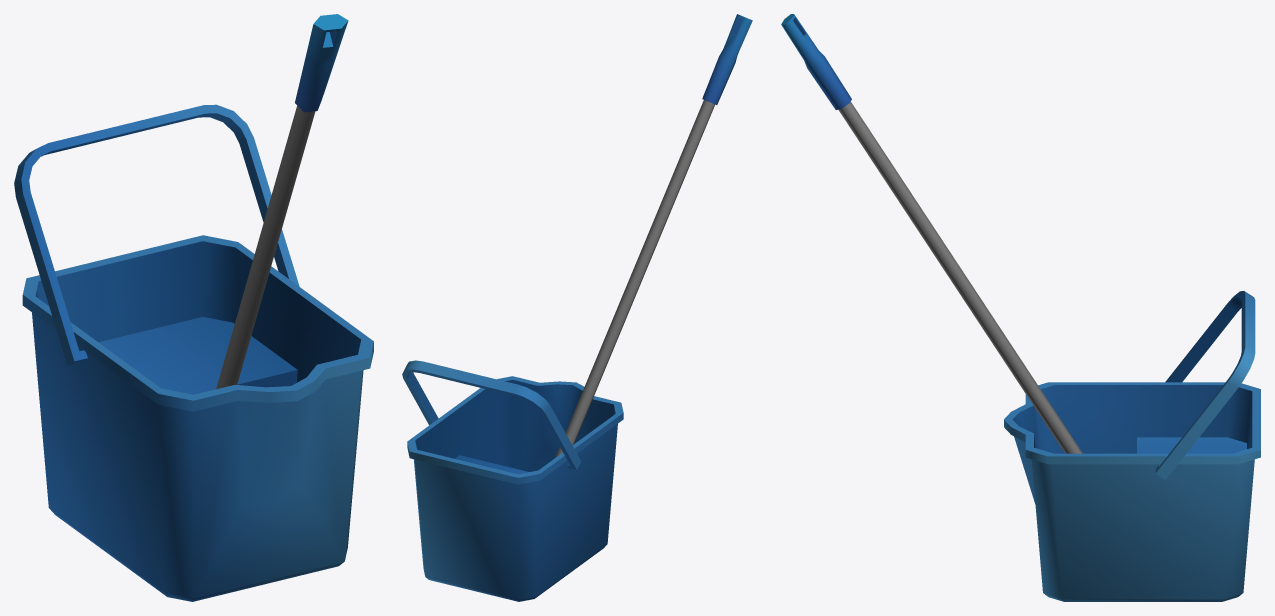
File: CR_MopSet.FBX
3 views of the same model, side by side, from view 1: azimuth 30°, elevation 25°; view 2: azimuth 150°, elevation 25°; view 3: azimuth 270°, elevation 25° (orthographic). The views are drawn at different scales.
Visible parts, largest first — view 1: CR_MopSet; view 2: CR_MopSet; view 3: CR_MopSet.
Boxes of the visible parts, x1=… form: CR_MopSet: x1=14, y1=14, x2=373, y2=601; CR_MopSet: x1=402, y1=14, x2=752, y2=601; CR_MopSet: x1=781, y1=14, x2=1260, y2=601.
Bounding box in the file's own units: 33.08 × 92.24 × 77.93.
1 material, 1 textured.
